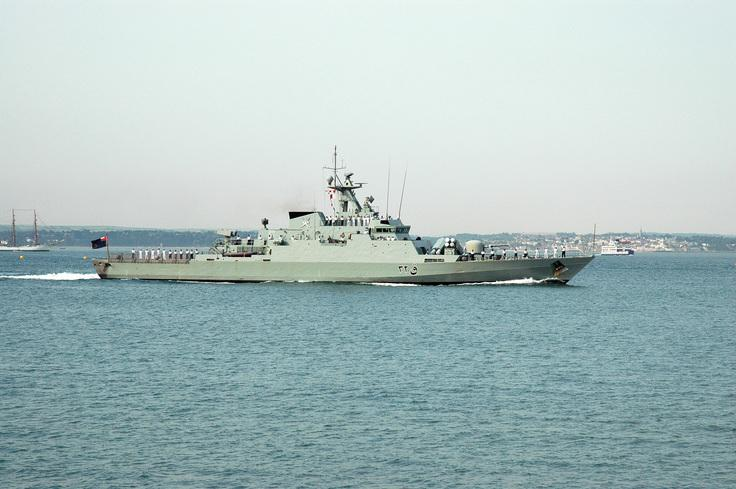otherboat: (598, 238, 638, 255)
warship: (90, 151, 600, 290)
